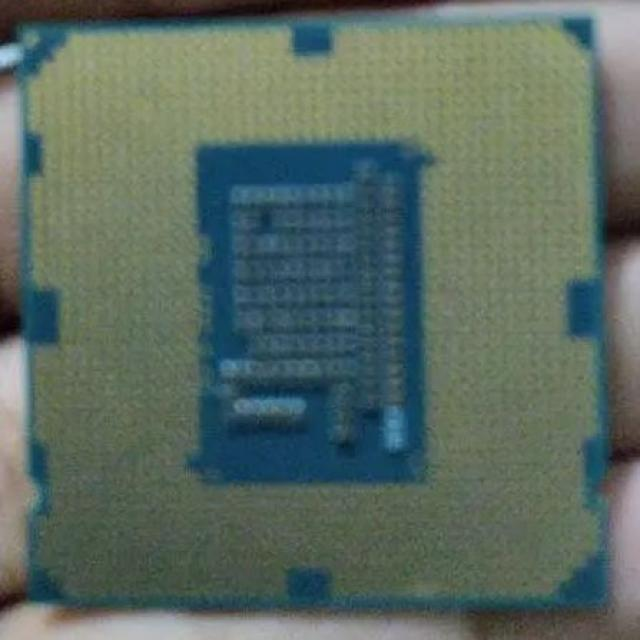electronic: (13, 4, 613, 614)
